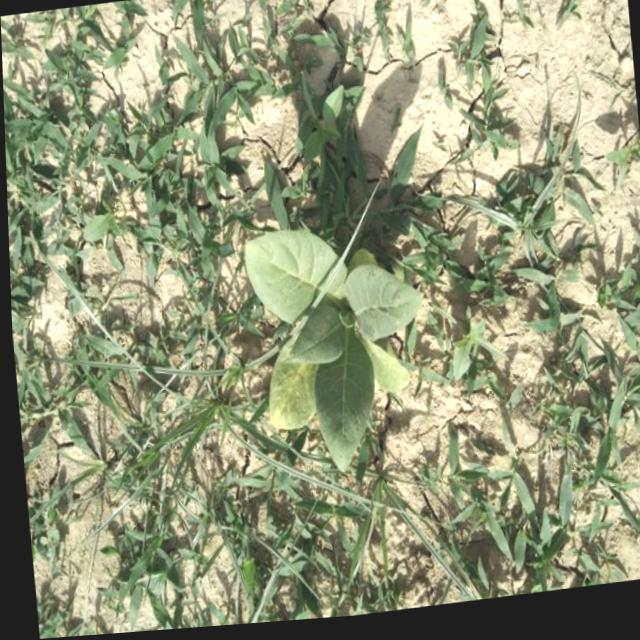healthy: (242, 224, 416, 475)
